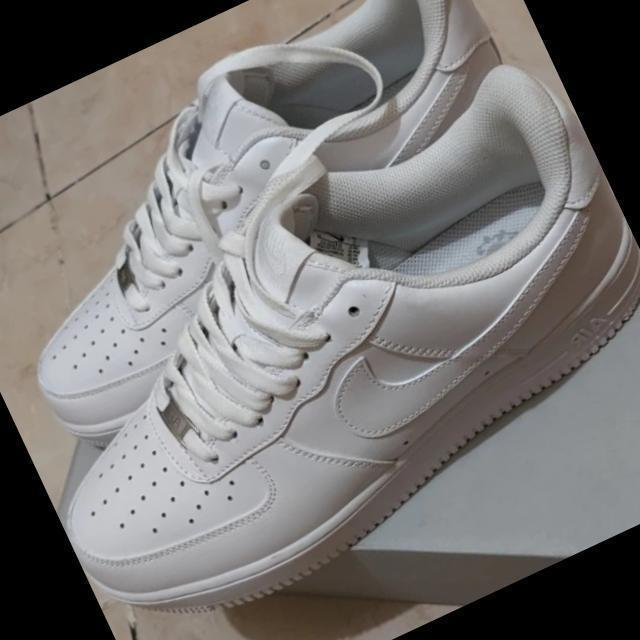nike original air force: (0, 44, 640, 640), (0, 0, 585, 464)
